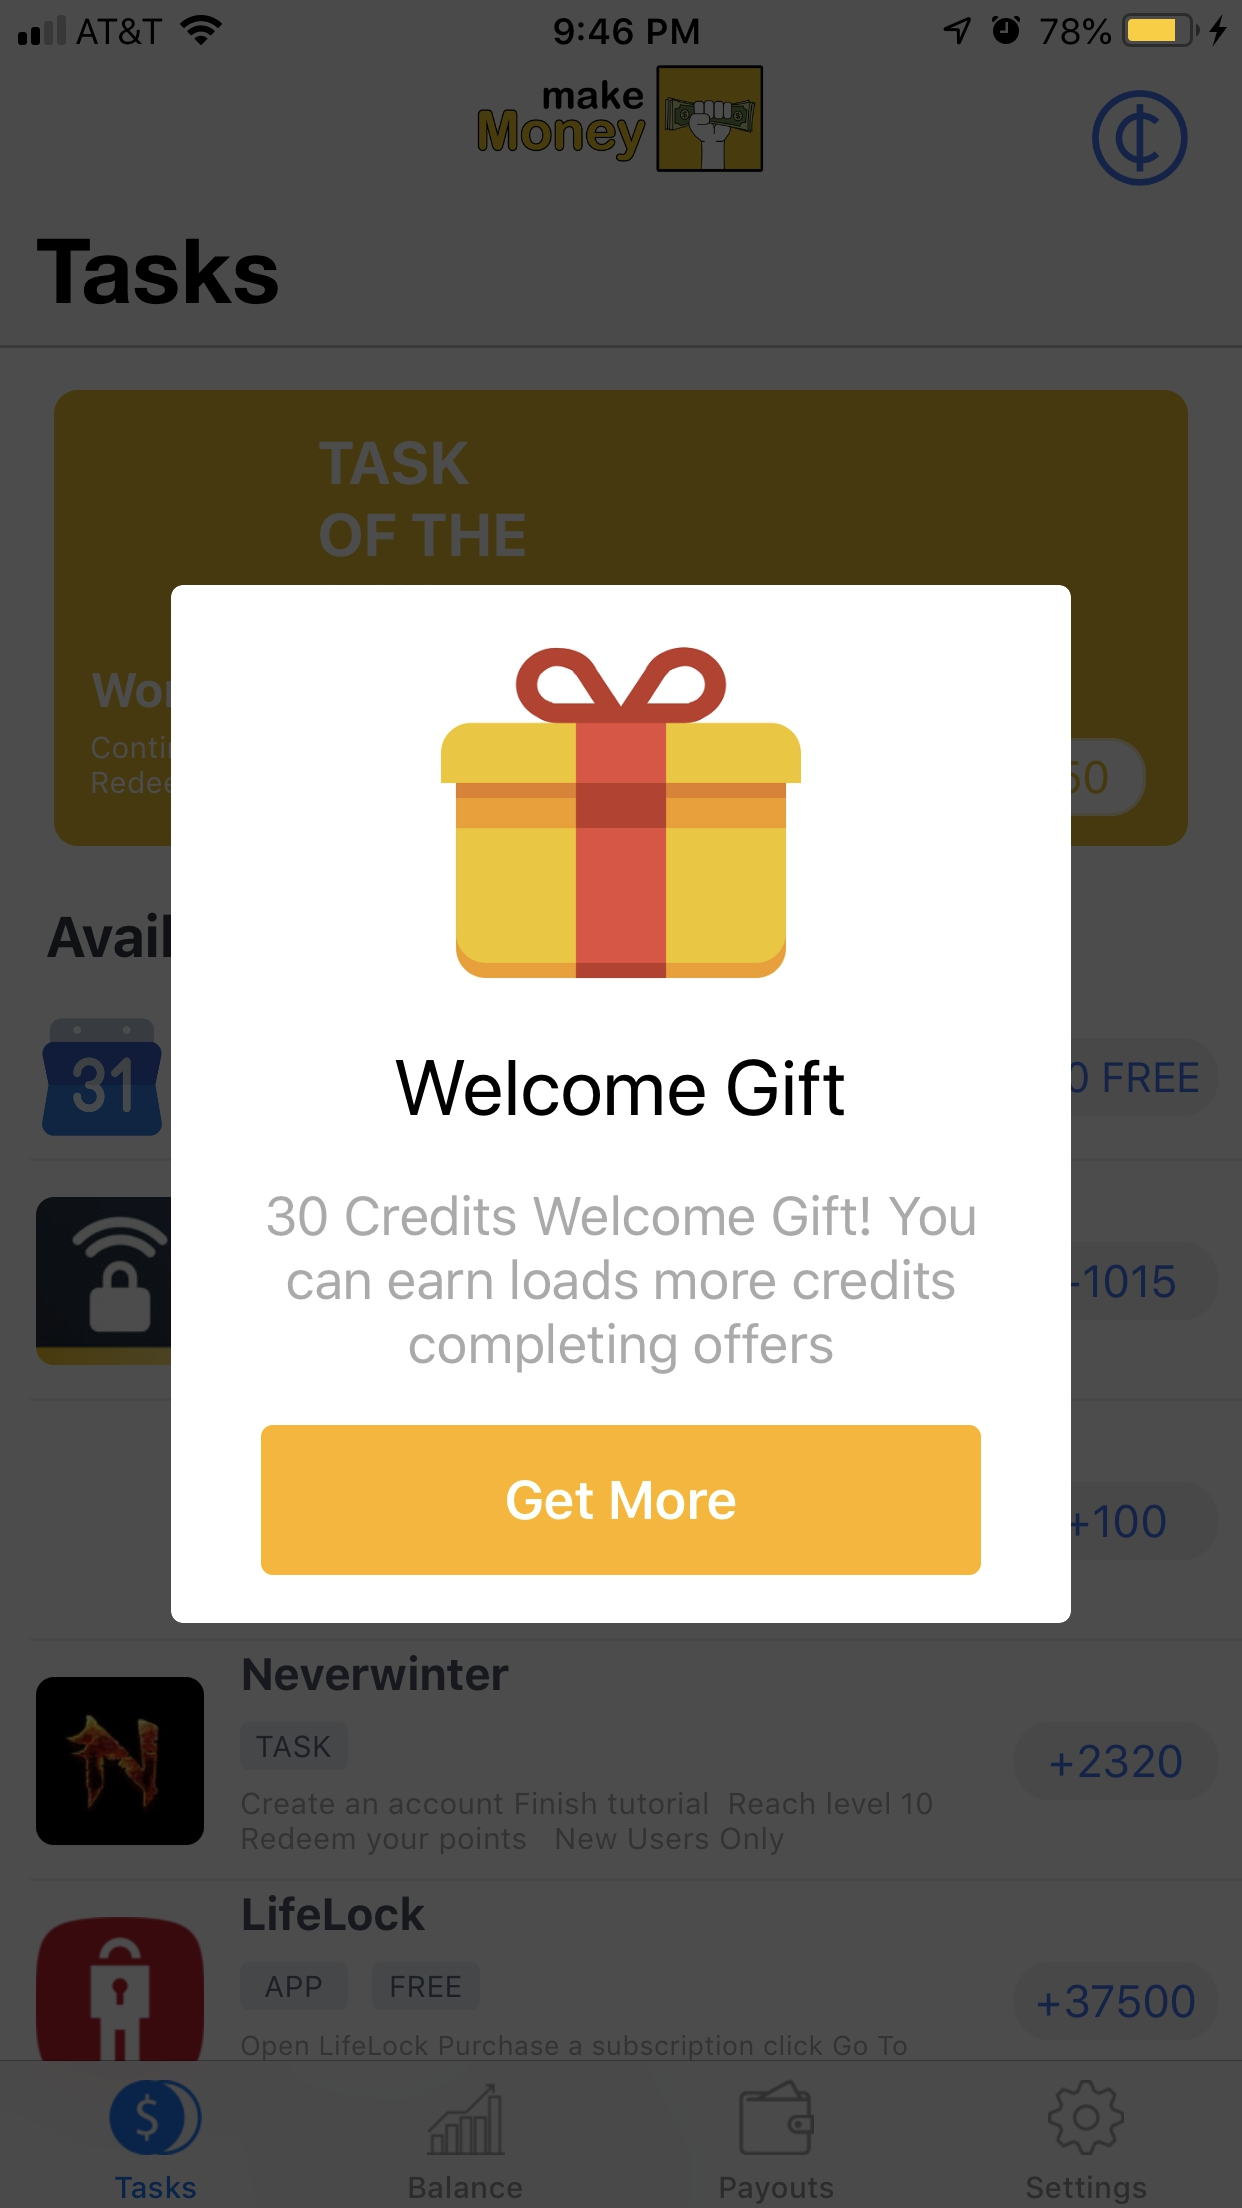Image: (441, 648, 802, 980)
Modal: (171, 585, 1072, 1626)
Text: (268, 1193, 977, 1375), (396, 1059, 846, 1118)
TextButton: (261, 1424, 983, 1576)
UpperTaskBar: (2, 2, 1242, 49)
